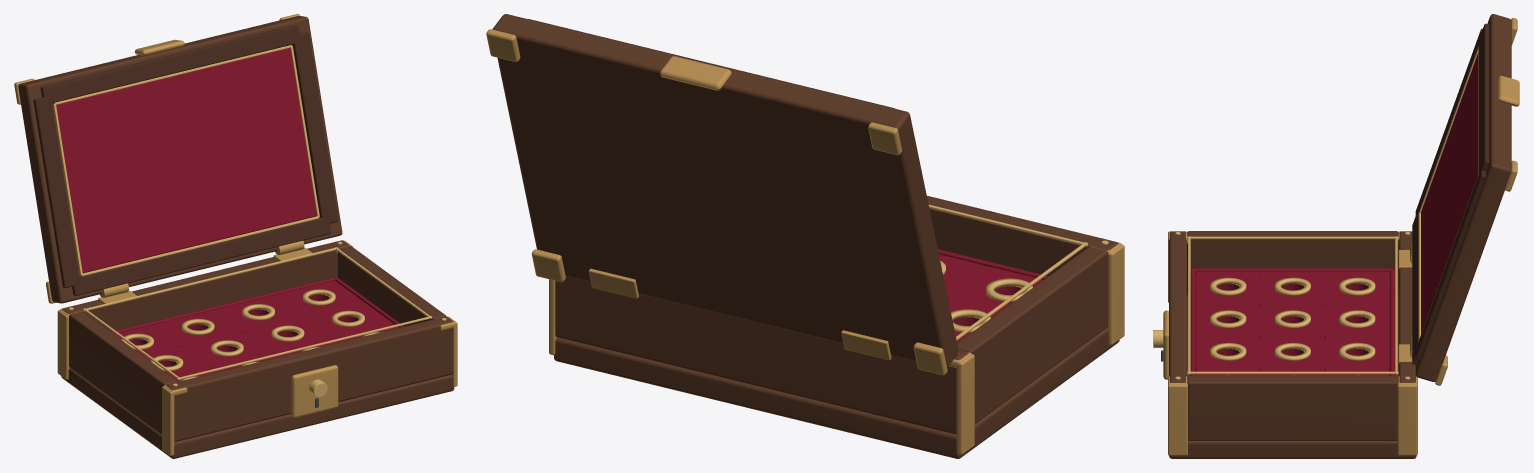
Rendered from DetectivePinCoffer.fbx.
3 views of the same model, side by side, from view 1: azimuth 30°, elevation 25°; view 2: azimuth 150°, elevation 25°; view 3: azimuth 270°, elevation 25° (orthographic). The views are drawn at different scales.
Visible parts, largest first — view 1: Lid | crimson velvet inner face, Chest | front wall, Chest | rear wall, Lid | solid wooden panel, Chest | thick solid wooden bottom, Chest | left side wall, Lid | inner velvet end rail, Lid | inner velvet end rail.001, Lid | inner velvet side rail, Lid | inner velvet side rail.001, Chest | right side wall, Brass | front lock shield (+17 smaller); view 2: Lid | solid wooden panel, Chest | rear wall, Chest | thick solid wooden bottom, Chest | left side wall, Chest | front wall, Brass | corner vertical guard.001, Velvet | cavity_09, Brass | corner vertical guard, Brass | lid closure plate, Brass | hinge plate lid, Brass | hinge plate lid.001, Velvet | cavity_10 (+7 smaller); view 3: Chest | right side wall, Lid | solid wooden panel, Chest | left side wall, Lid | crimson velvet inner face, Chest | thick solid wooden bottom, Chest | front wall, Velvet | cavity_01, Velvet | cavity_09, Velvet | cavity_05, Velvet | cavity_02, Velvet | cavity_03, Velvet | cavity_10 (+30 smaller).
Boxes of the visible parts, x1,y1,x2,y2 form: Lid | crimson velvet inner face: (56,48,316,273); Chest | front wall: (166,316,453,442); Chest | rear wall: (62,240,349,331); Lid | solid wooden panel: (18,16,342,303); Chest | thick solid wooden bottom: (61,368,454,458); Chest | left side wall: (69,311,177,434); Lid | inner velvet end rail: (40,25,299,103); Lid | inner velvet end rail.001: (72,217,331,295); Lid | inner velvet side rail: (33,97,79,288); Lid | inner velvet side rail.001: (292,32,338,223); Chest | right side wall: (337,246,445,326); Brass | front lock shield: (291,365,338,417); Lid | solid wooden panel: (492,14,958,367); Chest | rear wall: (555,276,968,434); Chest | thick solid wooden bottom: (554,328,1119,458); Chest | left side wall: (957,246,1108,423); Chest | front wall: (927,195,1118,275); Brass | corner vertical guard.001: (956,354,974,454); Velvet | cavity_09: (947,266,1043,310); Brass | corner vertical guard: (1107,244,1124,344); Brass | lid closure plate: (660,56,731,90); Brass | hinge plate lid: (841,330,891,360); Brass | hinge plate lid.001: (588,268,638,298); Velvet | cavity_10: (939,254,986,294); Chest | right side wall: (1187,375,1398,440); Lid | solid wooden panel: (1415,14,1511,381); Chest | left side wall: (1187,231,1398,295); Lid | crimson velvet inner face: (1421,53,1478,333); Chest | thick solid wooden bottom: (1169,295,1416,458); Chest | front wall: (1169,231,1186,382); Velvet | cavity_01: (1325,271,1389,304); Velvet | cavity_09: (1196,271,1260,304); Velvet | cavity_05: (1260,271,1324,304); Velvet | cavity_02: (1325,304,1389,336); Velvet | cavity_03: (1325,337,1389,369); Velvet | cavity_10: (1196,304,1260,336).
Size of the model in its own units: 0.1628 by 0.146 by 0.1628.
